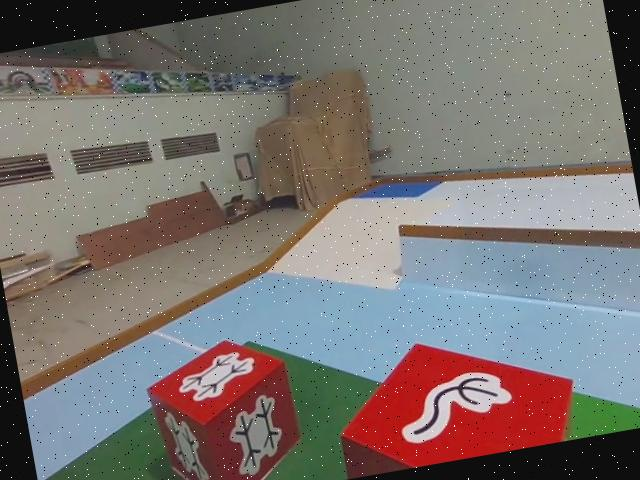R2 Real: (325, 316, 581, 479), (138, 328, 308, 480)
